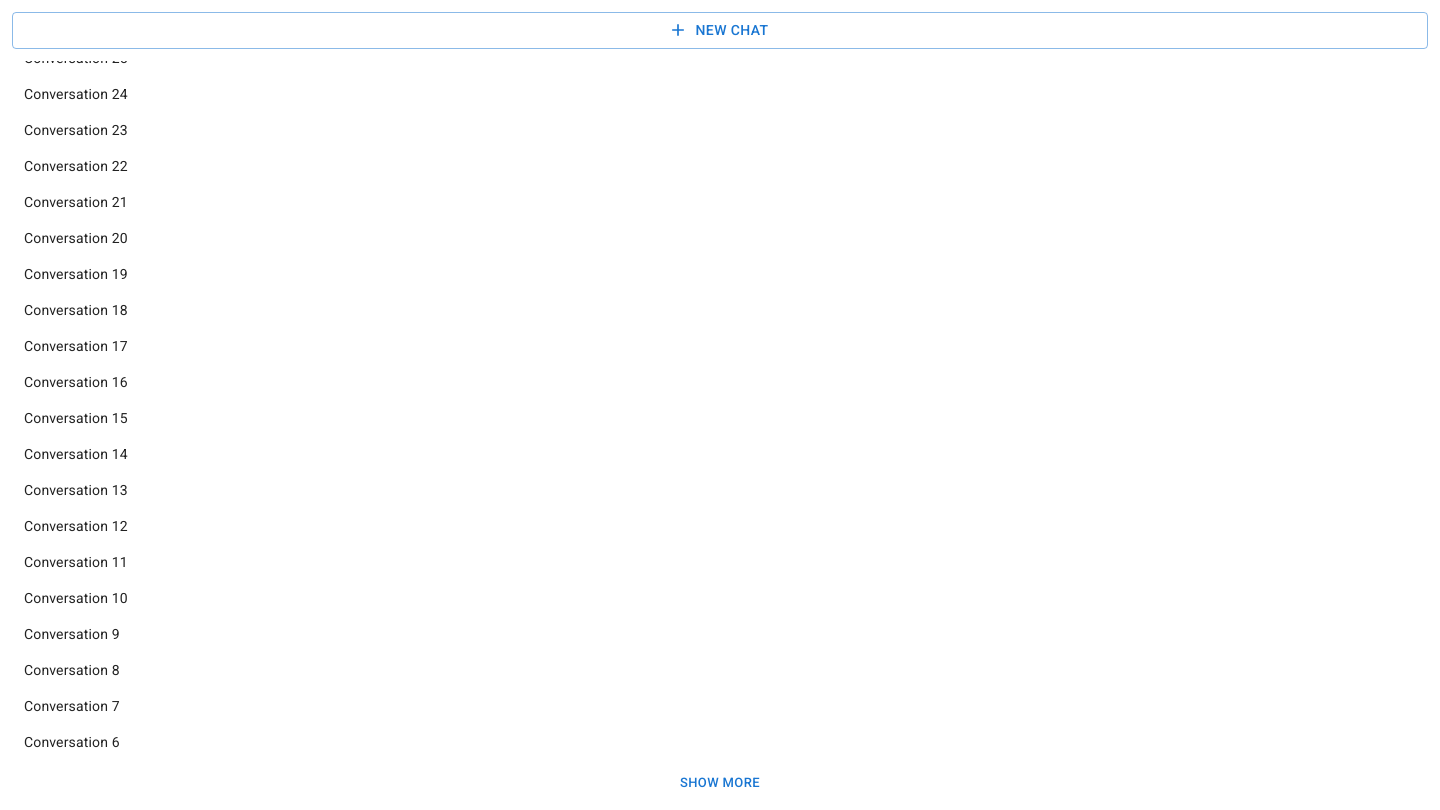
ConversationSidebar › keeps the entries and Show more when the next page fails, and tries again
The width and height of the screenshot is (1440, 810).
(page scrolled)
Click the button "Show more" at [720, 783], box [8,768,1432,799]
(page scrolled)
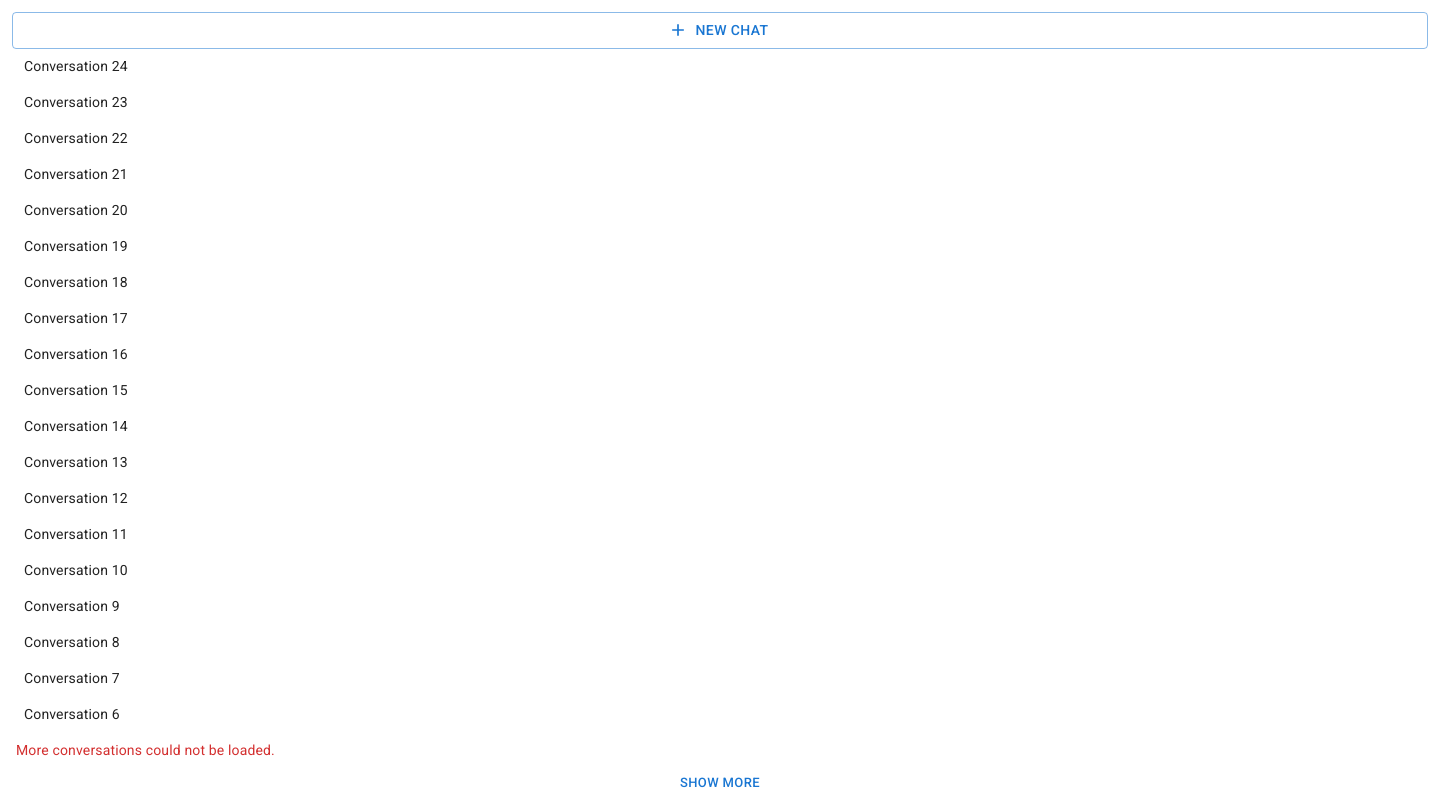
Now the text "More conversations could not be loaded." is shown, box [16,742,275,758]
Click the button "Show more" at [720, 783], box [8,768,1432,799]
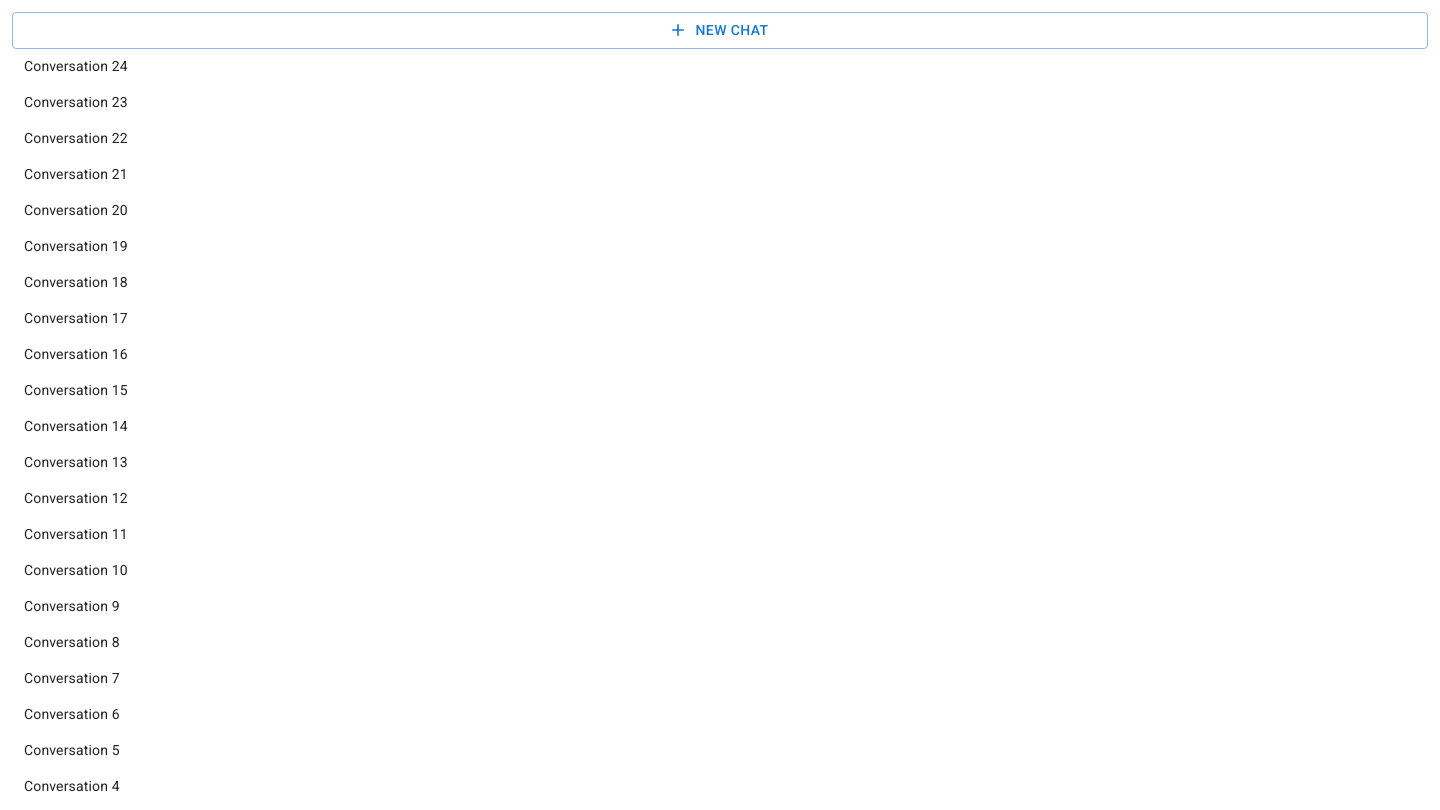
Now the text "More conversations could not be loaded." is gone
